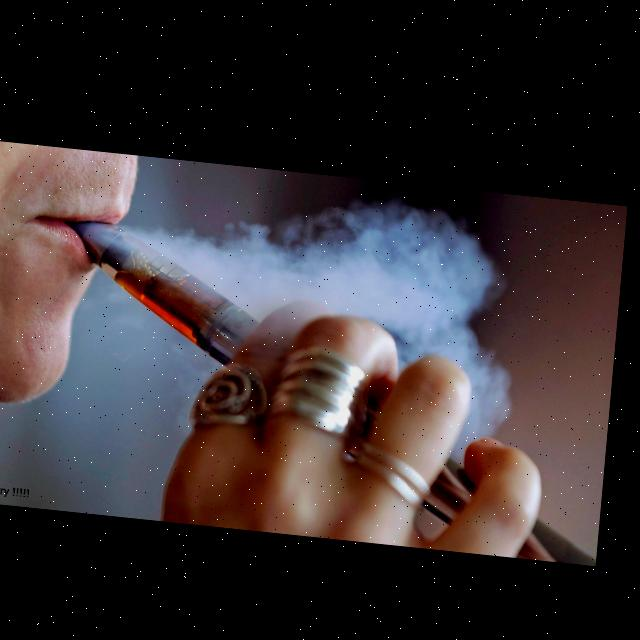vape: (53, 217, 625, 552)
